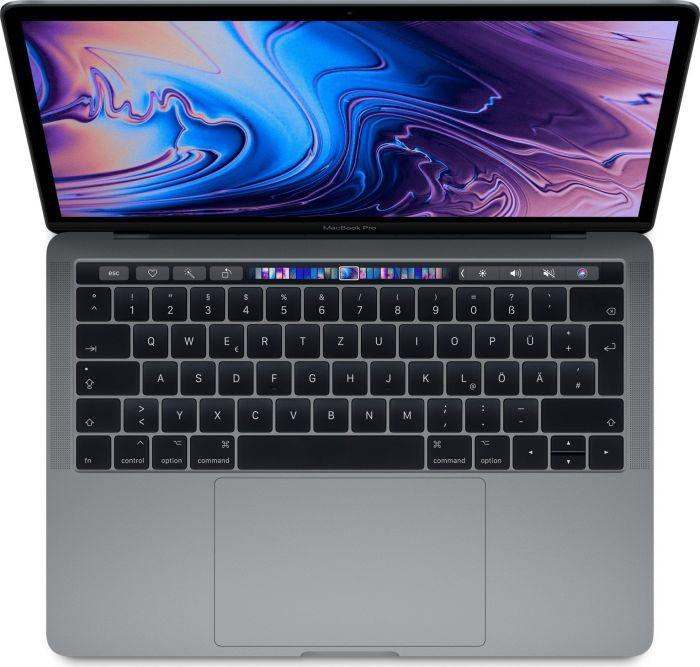0: (454, 284, 491, 320)
1: (112, 283, 148, 319)
2: (150, 283, 186, 320)
3: (187, 283, 225, 320)
4: (226, 283, 262, 320)
5: (264, 284, 301, 320)
6: (302, 283, 339, 320)
7: (340, 283, 376, 320)
8: (378, 283, 414, 320)
9: (416, 283, 453, 320)
a: (141, 358, 177, 394)
accent: (530, 283, 565, 319)
ae: (520, 358, 556, 394)
alt-left: (150, 432, 188, 469)
altgr-right: (472, 432, 509, 469)
b: (311, 395, 348, 431)
c: (235, 395, 272, 432)
caret: (73, 284, 110, 320)
comma: (425, 395, 461, 431)
d: (216, 357, 253, 394)
del: (568, 284, 623, 320)
e: (206, 320, 243, 357)
enter: (587, 320, 624, 395)
f: (254, 358, 290, 394)
g: (292, 358, 328, 394)
h: (330, 358, 366, 394)
hash: (557, 358, 594, 394)
i: (397, 320, 433, 356)
j: (368, 357, 404, 394)
k: (406, 357, 442, 394)
keyboard: (64, 255, 636, 477)
l: (444, 358, 480, 394)
less: (121, 395, 158, 431)
m: (386, 394, 423, 431)
minus: (500, 395, 536, 430)
n: (349, 395, 386, 431)
o: (434, 321, 471, 357)
oe: (481, 358, 518, 394)
p: (473, 320, 509, 356)
plus: (548, 320, 585, 356)
point: (463, 395, 500, 430)
q: (130, 320, 167, 357)
r: (244, 320, 281, 357)
s: (178, 358, 215, 394)
shift-left: (73, 395, 120, 432)
shift-lock: (74, 359, 139, 395)
shift-right: (539, 394, 623, 431)
space: (235, 432, 423, 469)
ss: (492, 284, 528, 320)
strg-left: (112, 433, 149, 469)
t: (283, 320, 318, 356)
tab: (73, 320, 129, 357)
u: (359, 320, 395, 357)
ue: (510, 320, 546, 357)
v: (273, 394, 310, 431)
w: (169, 320, 205, 356)
x: (198, 395, 234, 431)
y: (160, 395, 196, 431)
z: (321, 320, 357, 357)
